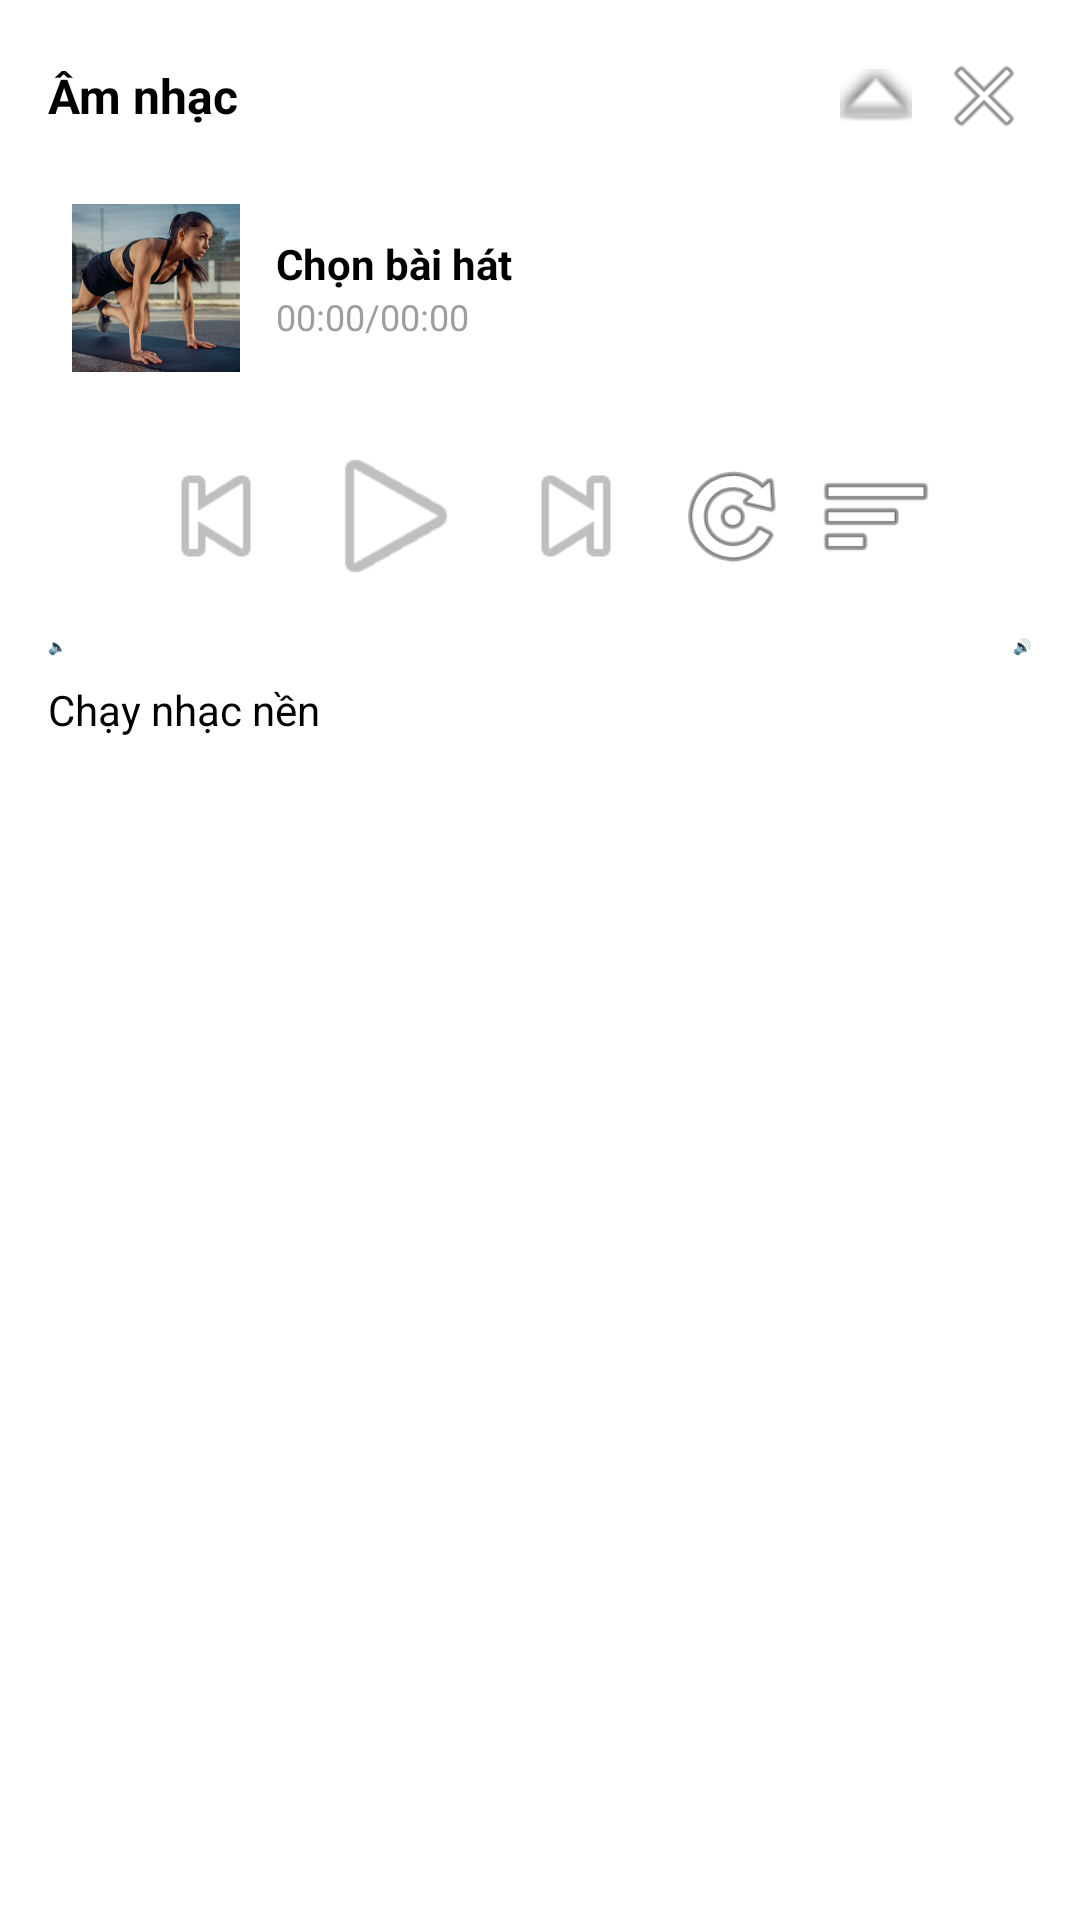

Named icons in this screenshot (1080px×1920px) and their centers, point (x, y):
arrow up float: point (876, 95)
next: point (576, 516)
play: point (396, 516)
previous: point (216, 516)
rotate: point (732, 517)
sort by size: point (876, 516)
workout: point (156, 288)
Đóng: point (984, 96)
